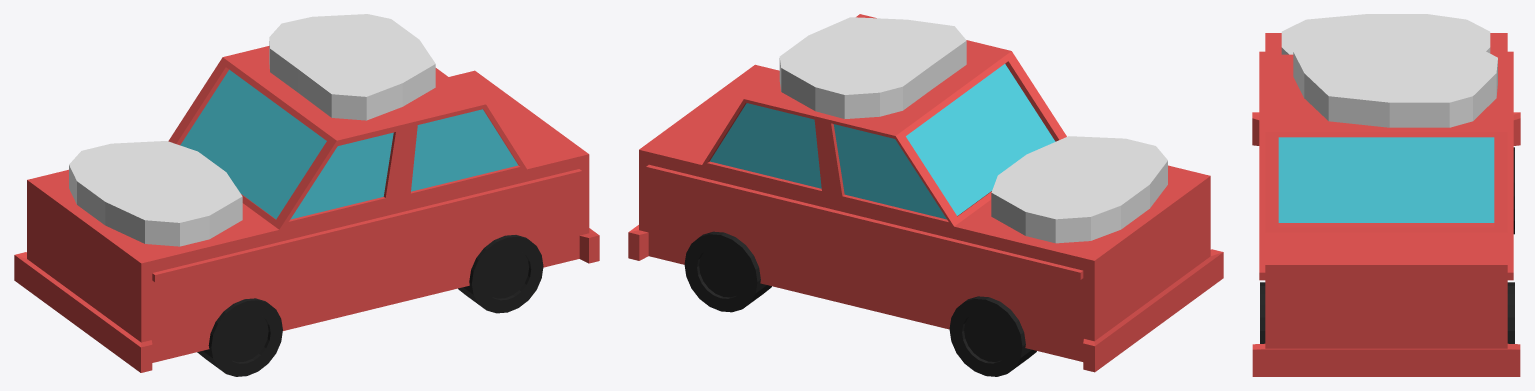
The model's file is Car.fbx.
3 renders of one model, left to right at view 1: azimuth 30°, elevation 25°; view 2: azimuth 150°, elevation 25°; view 3: azimuth 270°, elevation 25°, orthographic. The views are drawn at different scales.
Parts seen in each view (by area): view 1: pasted__geo_car1; view 2: pasted__geo_car1; view 3: pasted__geo_car1.
Part boxes in pixels (left/top/right/bottom): pasted__geo_car1: left=14, top=14, right=599, bottom=376; pasted__geo_car1: left=628, top=14, right=1223, bottom=376; pasted__geo_car1: left=1252, top=14, right=1520, bottom=376.
Bounding box in the file's own units: 4.69 × 2.29 × 2.24.
Materials: 1 (1 with a texture image).
